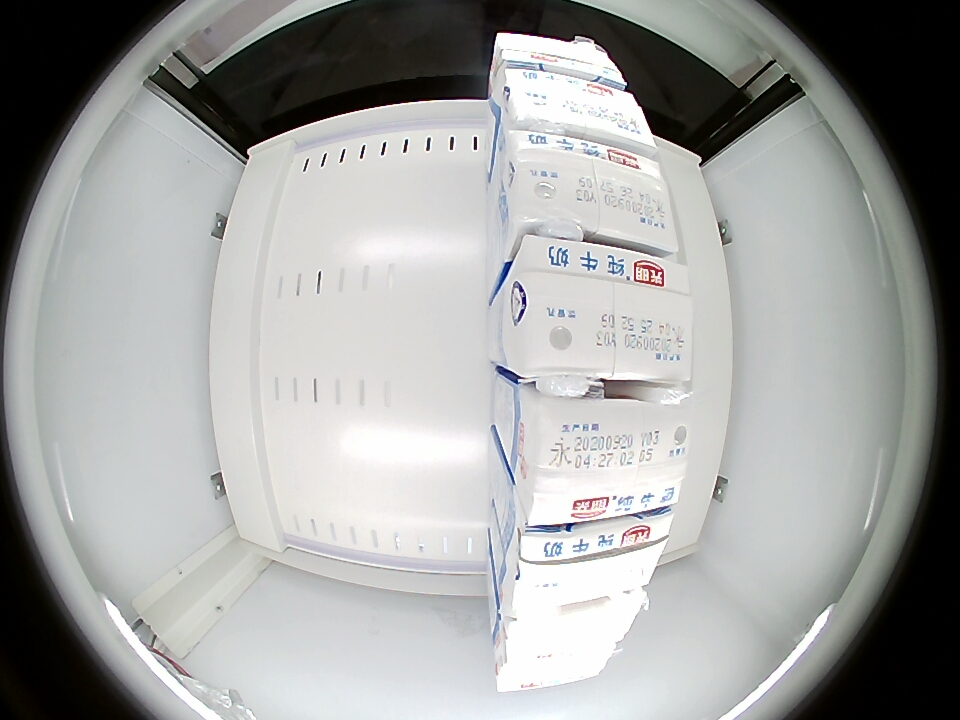niunai: (500, 237, 694, 383), (513, 387, 689, 524), (500, 133, 680, 254), (510, 510, 671, 612), (498, 70, 655, 154), (493, 591, 644, 661), (488, 31, 626, 92), (492, 642, 617, 694)
